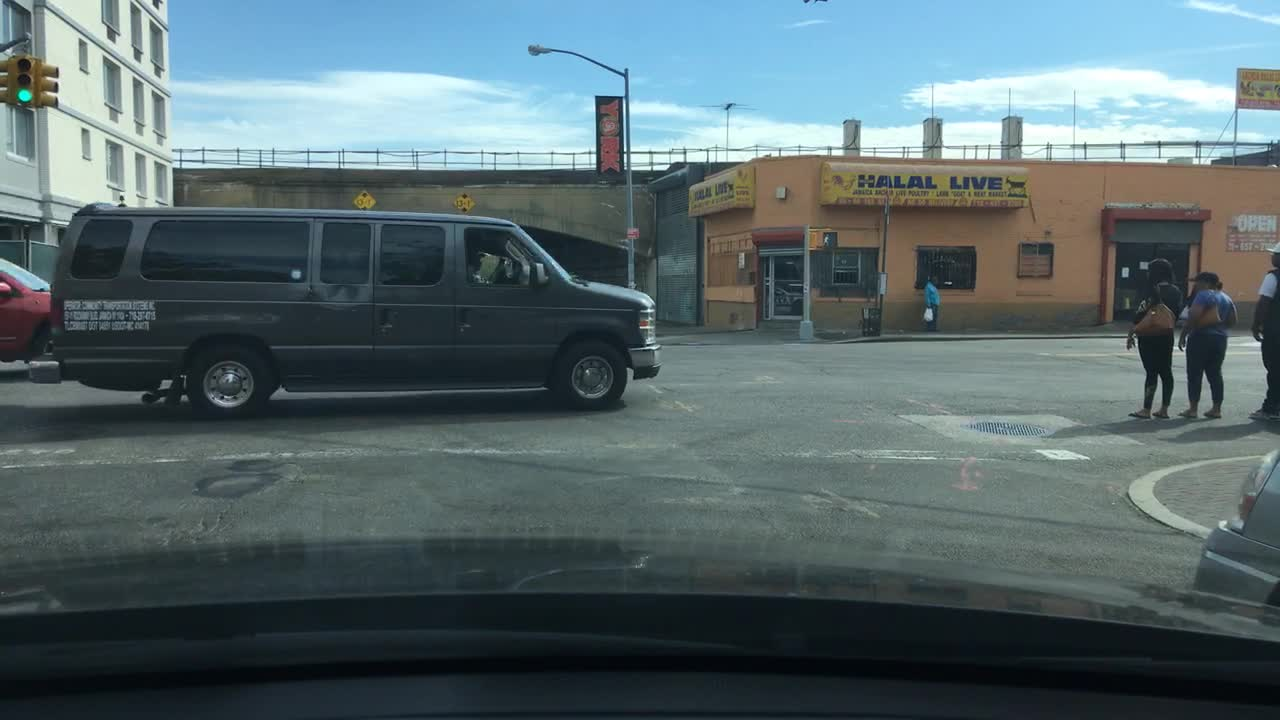car: (46, 198, 661, 421), (0, 256, 51, 363)
person: (1175, 271, 1238, 422), (1128, 253, 1184, 417), (1251, 253, 1278, 421), (920, 271, 942, 333)
traffic light: (35, 63, 58, 107), (14, 57, 34, 107), (0, 56, 15, 103)
traffic sign: (351, 188, 377, 212), (453, 190, 476, 212)
